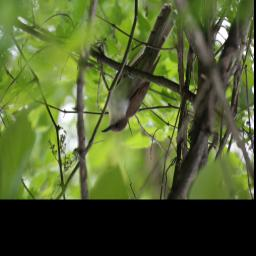Cuckoo: (100, 2, 178, 136)
